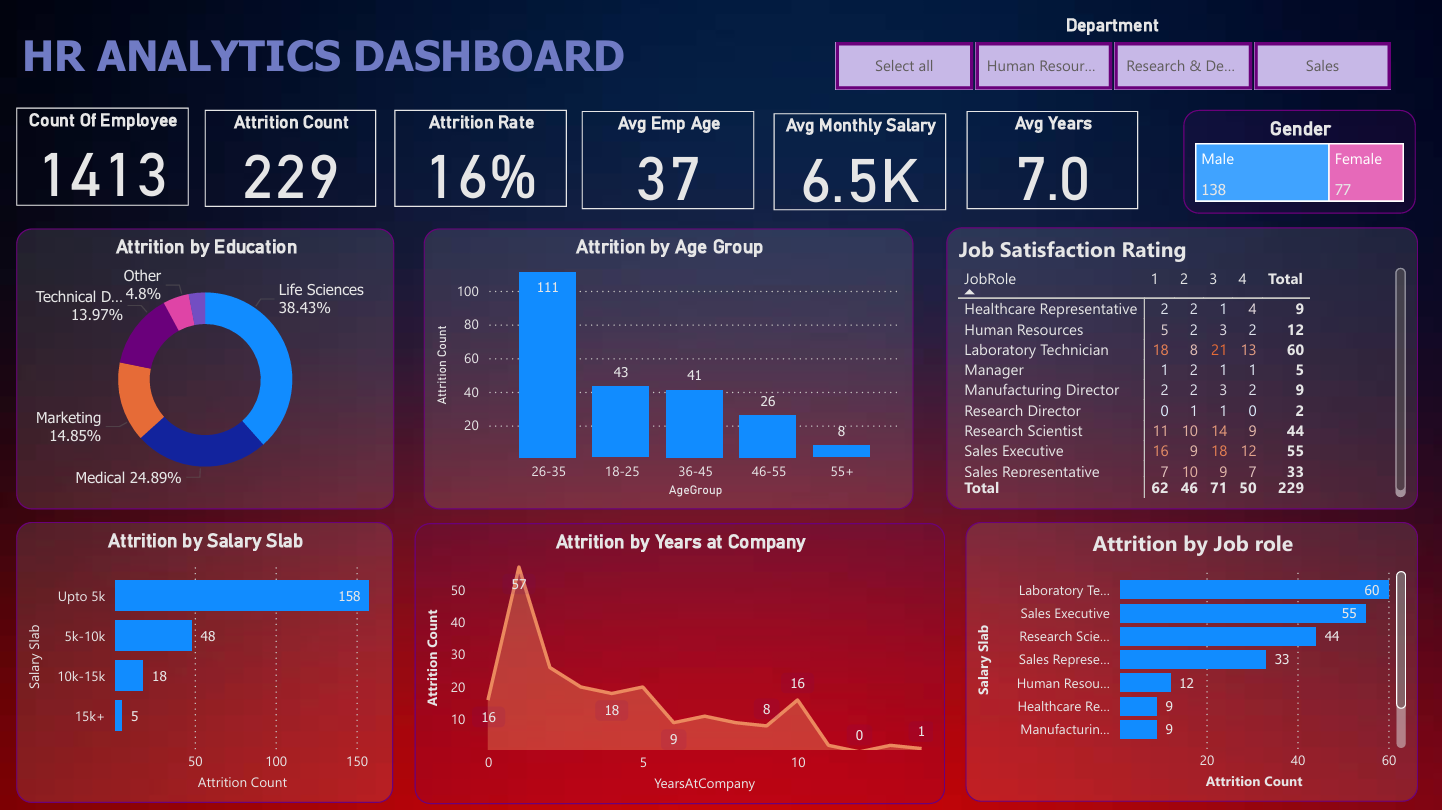

The page's visual inventory and layout, read from the dashboard file:
{"tool":"powerbi","page":{"name":"Page 1","canvas":[1280,720],"ordinal":0},"visuals":[{"type":"card","title":"Count Of Employee","fields":{"Values":["CountNonNull(HR_Analytics-Dataset.EmpID)"]},"box":[16.5,97.4,152.3,86.4],"z":0},{"type":"card","title":"Attrition Count","fields":{"Values":["Sum(HR_Analytics-Dataset.AttritionCount)"]},"box":[182.5,98.8,152.3,86.4],"z":1000},{"type":"card","title":"Avg Emp Age","fields":{"Values":["Avg(HR_Analytics-Dataset.Age)"]},"box":[517.3,100.2,152.3,86.4],"z":2000},{"type":"card","title":"Attrition Rate","fields":{"Values":["HR_Analytics-Dataset.AttritionRate"]},"box":[351.3,98.8,152.3,86.4],"z":3000},{"type":"card","title":"Avg Years","fields":{"Values":["Avg(HR_Analytics-Dataset.YearsAtCompany)"]},"box":[857.6,100.2,152.3,86.4],"z":4000},{"type":"card","title":"Avg Monthly Salary","fields":{"Values":["Avg(HR_Analytics-Dataset.MonthlyIncome)"]},"box":[687.5,101.5,152.3,86.4],"z":5000},{"type":"donutChart","title":"Attrition by Education","fields":{"Category":["HR_Analytics-Dataset.EducationField"],"Y":["Sum(HR_Analytics-Dataset.AttritionCount)"]},"box":[16.5,204.5,334.8,248.4],"z":6000},{"type":"columnChart","title":"Attrition by Age Group","fields":{"Category":["HR_Analytics-Dataset.AgeGroup"],"Y":["Sum(HR_Analytics-Dataset.AttritionCount)"]},"box":[377.4,204.5,433.6,248.4],"z":7000},{"type":"pivotTable","title":"Job Satisfaction Rating","fields":{"Rows":["HR_Analytics-Dataset.JobRole"],"Columns":["HR_Analytics-Dataset.JobSatisfaction"],"Values":["Sum(HR_Analytics-Dataset.AttritionCount)"]},"box":[839.8,203.1,418.5,249.7],"z":8000},{"type":"barChart","title":"Attrition by Salary Slab","fields":{"Category":["HR_Analytics-Dataset.SalarySlab"],"Y":["Sum(HR_Analytics-Dataset.AttritionCount)"]},"box":[16,464.1,334.2,248.5],"z":9000},{"type":"barChart","title":"Attrition by Job role","fields":{"Y":["Sum(HR_Analytics-Dataset.AttritionCount)"],"Category":["HR_Analytics-Dataset.JobRole"]},"box":[857.1,463.8,400.7,248.4],"z":10000},{"type":"areaChart","title":"Attrition by Years at Company","fields":{"Category":["HR_Analytics-Dataset.YearsAtCompany"],"Y":["Sum(HR_Analytics-Dataset.AttritionCount)"]},"box":[368.6,465.2,470.7,248.4],"z":11000},{"type":"treemap","title":"Gender","fields":{"Group":["HR_Analytics-Dataset.Gender"],"Values":["Sum(HR_Analytics-Dataset.AttritionCount)"]},"box":[1049.7,98.8,205.8,91.9],"z":12000},{"type":"slicer","title":"Department","fields":{"Values":["HR_Analytics-Dataset.Department"]},"box":[716.3,13.7,542,74.1],"z":13000},{"type":"textbox","box":[16.5,23.3,609.3,54.9],"z":14000}]}

Visuals, with their boxes in screenshot pixels (x1, y1, x2, y2), scaled from the page's 1280x720 canvas onto the 1442x810 screenshot:
"Count Of Employee" card: [x1=19, y1=110, x2=190, y2=207]
"Attrition Count" card: [x1=206, y1=111, x2=377, y2=208]
"Avg Emp Age" card: [x1=583, y1=113, x2=754, y2=210]
"Attrition Rate" card: [x1=396, y1=111, x2=567, y2=208]
"Avg Years" card: [x1=966, y1=113, x2=1138, y2=210]
"Avg Monthly Salary" card: [x1=775, y1=114, x2=946, y2=211]
"Attrition by Education" donutChart: [x1=19, y1=230, x2=396, y2=510]
"Attrition by Age Group" columnChart: [x1=425, y1=230, x2=914, y2=510]
"Job Satisfaction Rating" pivotTable: [x1=946, y1=228, x2=1418, y2=509]
"Attrition by Salary Slab" barChart: [x1=18, y1=522, x2=395, y2=802]
"Attrition by Job role" barChart: [x1=966, y1=522, x2=1417, y2=801]
"Attrition by Years at Company" areaChart: [x1=415, y1=523, x2=946, y2=803]
"Gender" treemap: [x1=1183, y1=111, x2=1414, y2=215]
"Department" slicer: [x1=807, y1=15, x2=1418, y2=99]
textbox: [x1=19, y1=26, x2=705, y2=88]
